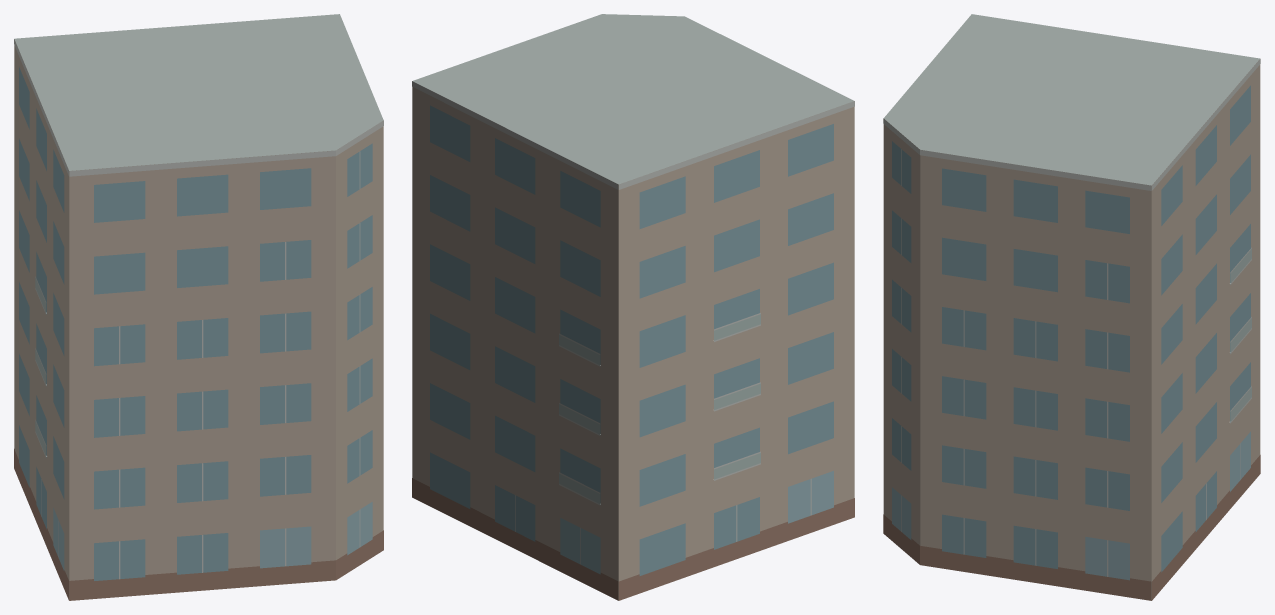
The model's file is survey-upis-32842145.glb.
The picture shows the model from 3 angles, left to right: view 1: azimuth 30°, elevation 25°; view 2: azimuth 150°, elevation 25°; view 3: azimuth 270°, elevation 25°; orthographic projection. The views are drawn at different scales.
Parts seen in each view (by area): view 1: survey-upis-32842145.tmp; view 2: survey-upis-32842145.tmp; view 3: survey-upis-32842145.tmp.
Boxes of the visible parts, x1,y1,x2,y2 form: survey-upis-32842145.tmp: [14, 14, 383, 600]; survey-upis-32842145.tmp: [412, 14, 854, 600]; survey-upis-32842145.tmp: [883, 14, 1260, 600].
Bounding box in the file's own units: 16.17 × 18.25 × 15.01.
